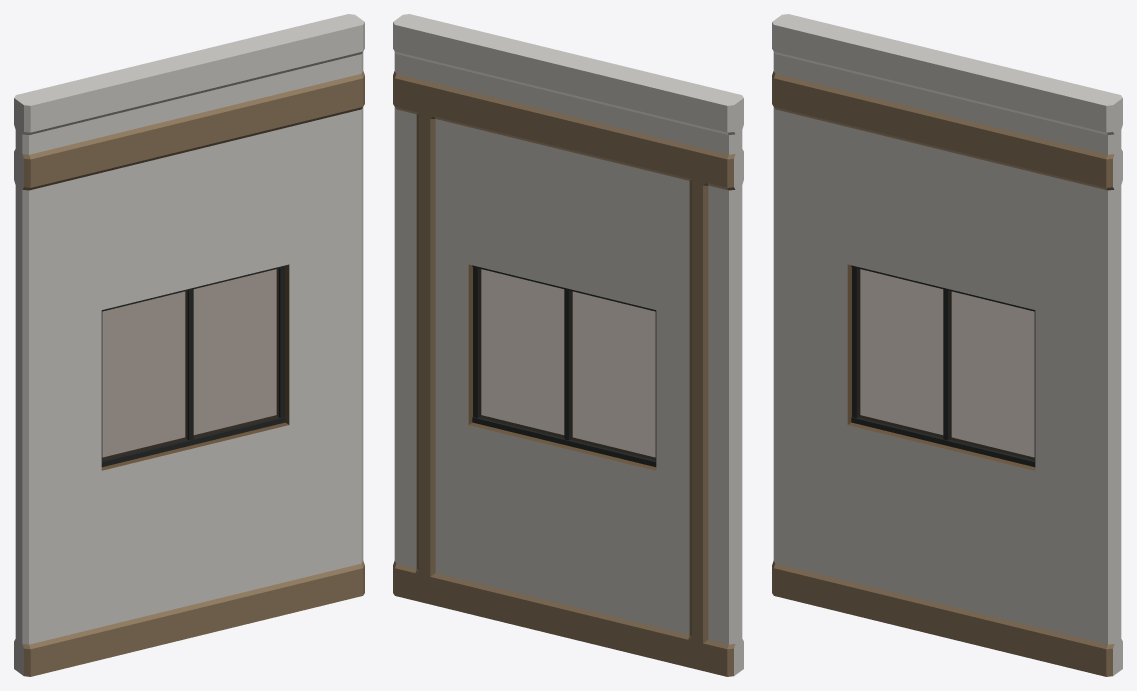
The model's file is interior-partition-wall-aa00ff.glb.
The picture shows the model from 3 angles, left to right: view 1: azimuth 30°, elevation 25°; view 2: azimuth 150°, elevation 25°; view 3: azimuth 330°, elevation 25°; orthographic projection.
Parts seen in each view (by area): view 1: interior-partition-wall; view 2: interior-partition-wall; view 3: interior-partition-wall.
Part boxes in pixels (box(x1,y1,x2,y2)): interior-partition-wall: box(14, 14, 364, 676); interior-partition-wall: box(393, 14, 743, 676); interior-partition-wall: box(772, 14, 1122, 676).
Size of the model in its own units: 2 by 3.2 by 0.15.
